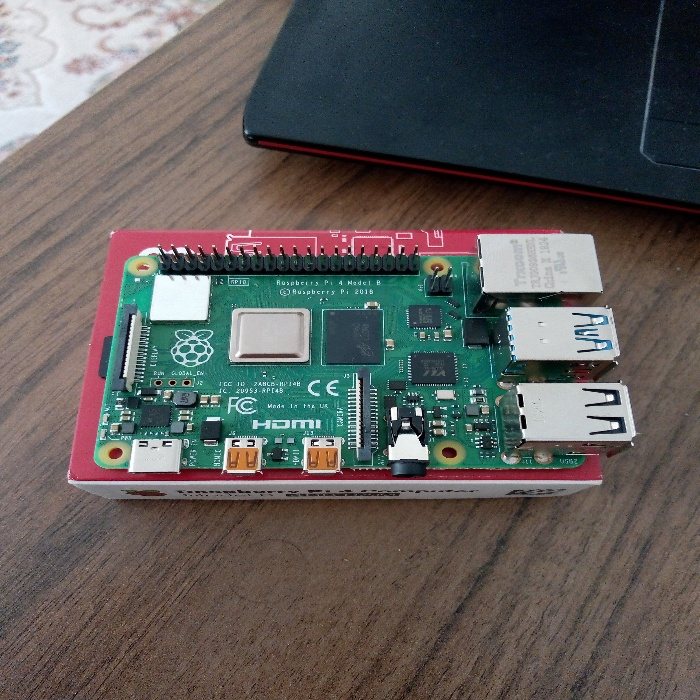raspberry: (93, 228, 646, 477)
